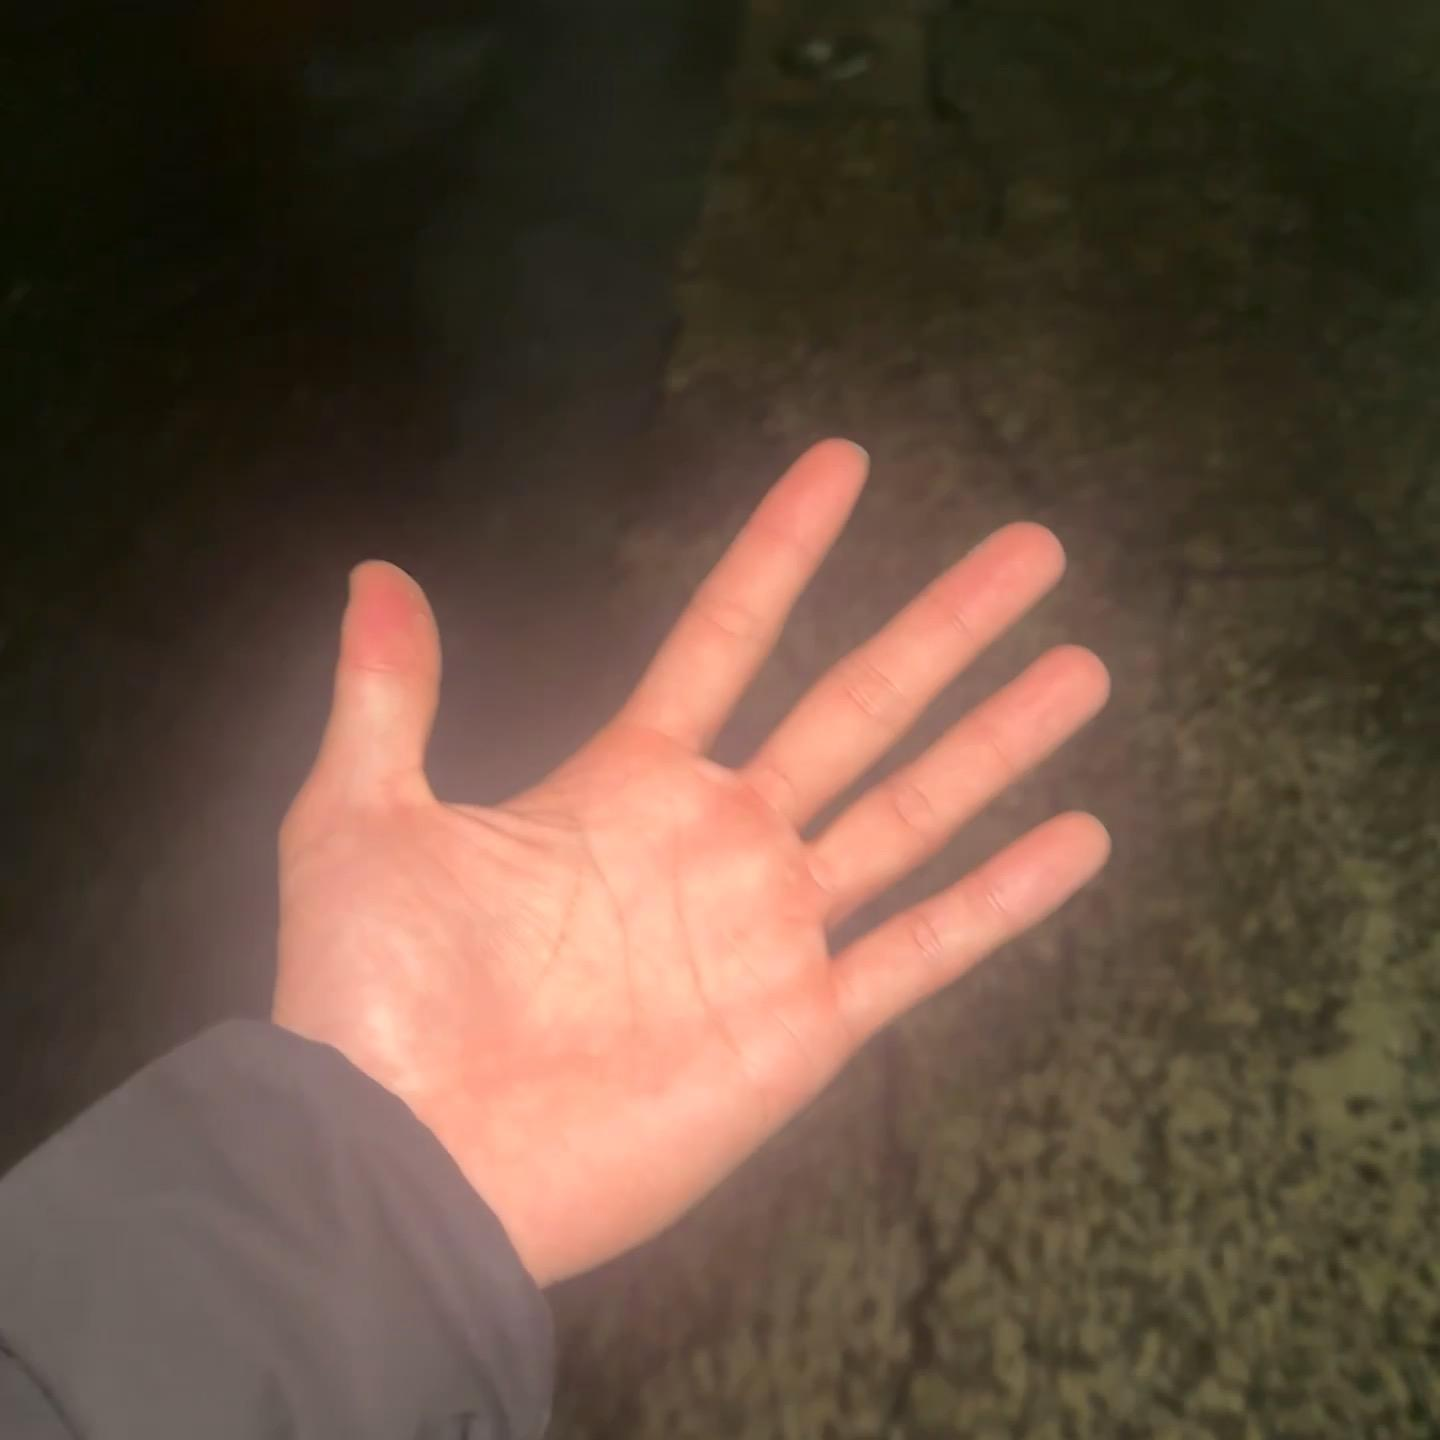without_gloves: (285, 409, 1133, 1240)
